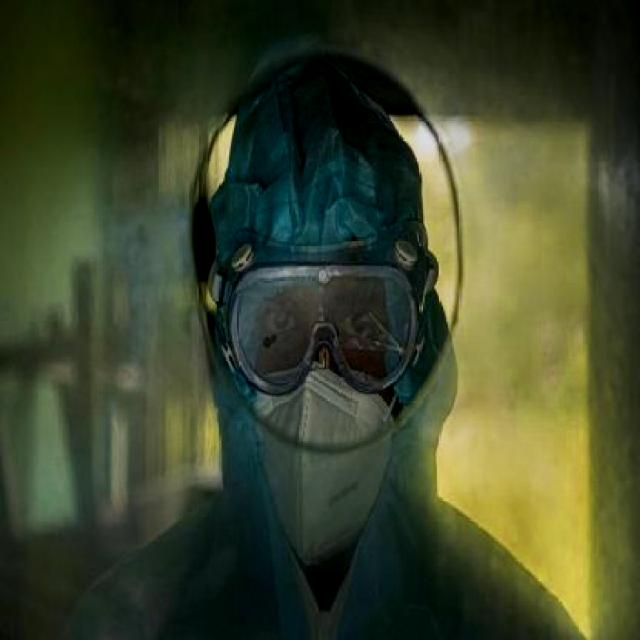face_mask: (235, 289, 397, 551)
glasses: (223, 254, 423, 398)
